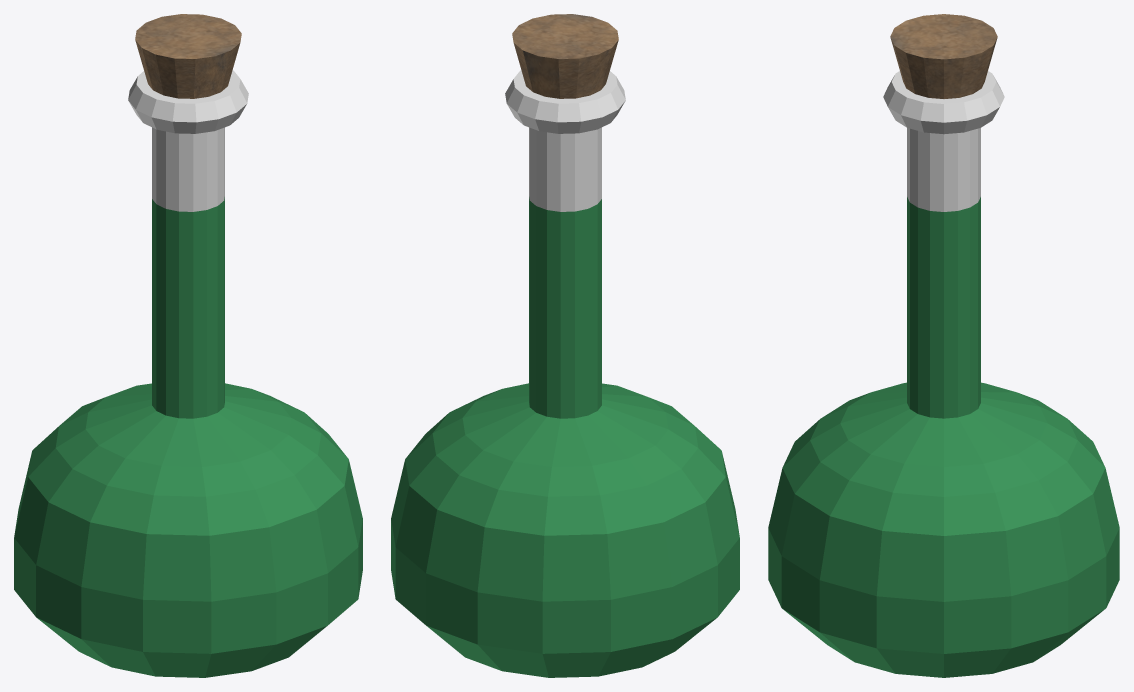
Rendered from GreenPotion.fbx.
3 views of the same model, side by side, from view 1: azimuth 30°, elevation 25°; view 2: azimuth 150°, elevation 25°; view 3: azimuth 270°, elevation 25° (orthographic).
Visible parts, largest first — view 1: GreenPotion; view 2: GreenPotion; view 3: GreenPotion.
Boxes of the visible parts, <box> form: GreenPotion: <box>14,14,362,677</box>; GreenPotion: <box>391,14,739,677</box>; GreenPotion: <box>768,14,1119,677</box>.
Bounding box in the file's own units: 10.57 × 19.5 × 10.57.
Materials: 3 (1 with a texture image).
